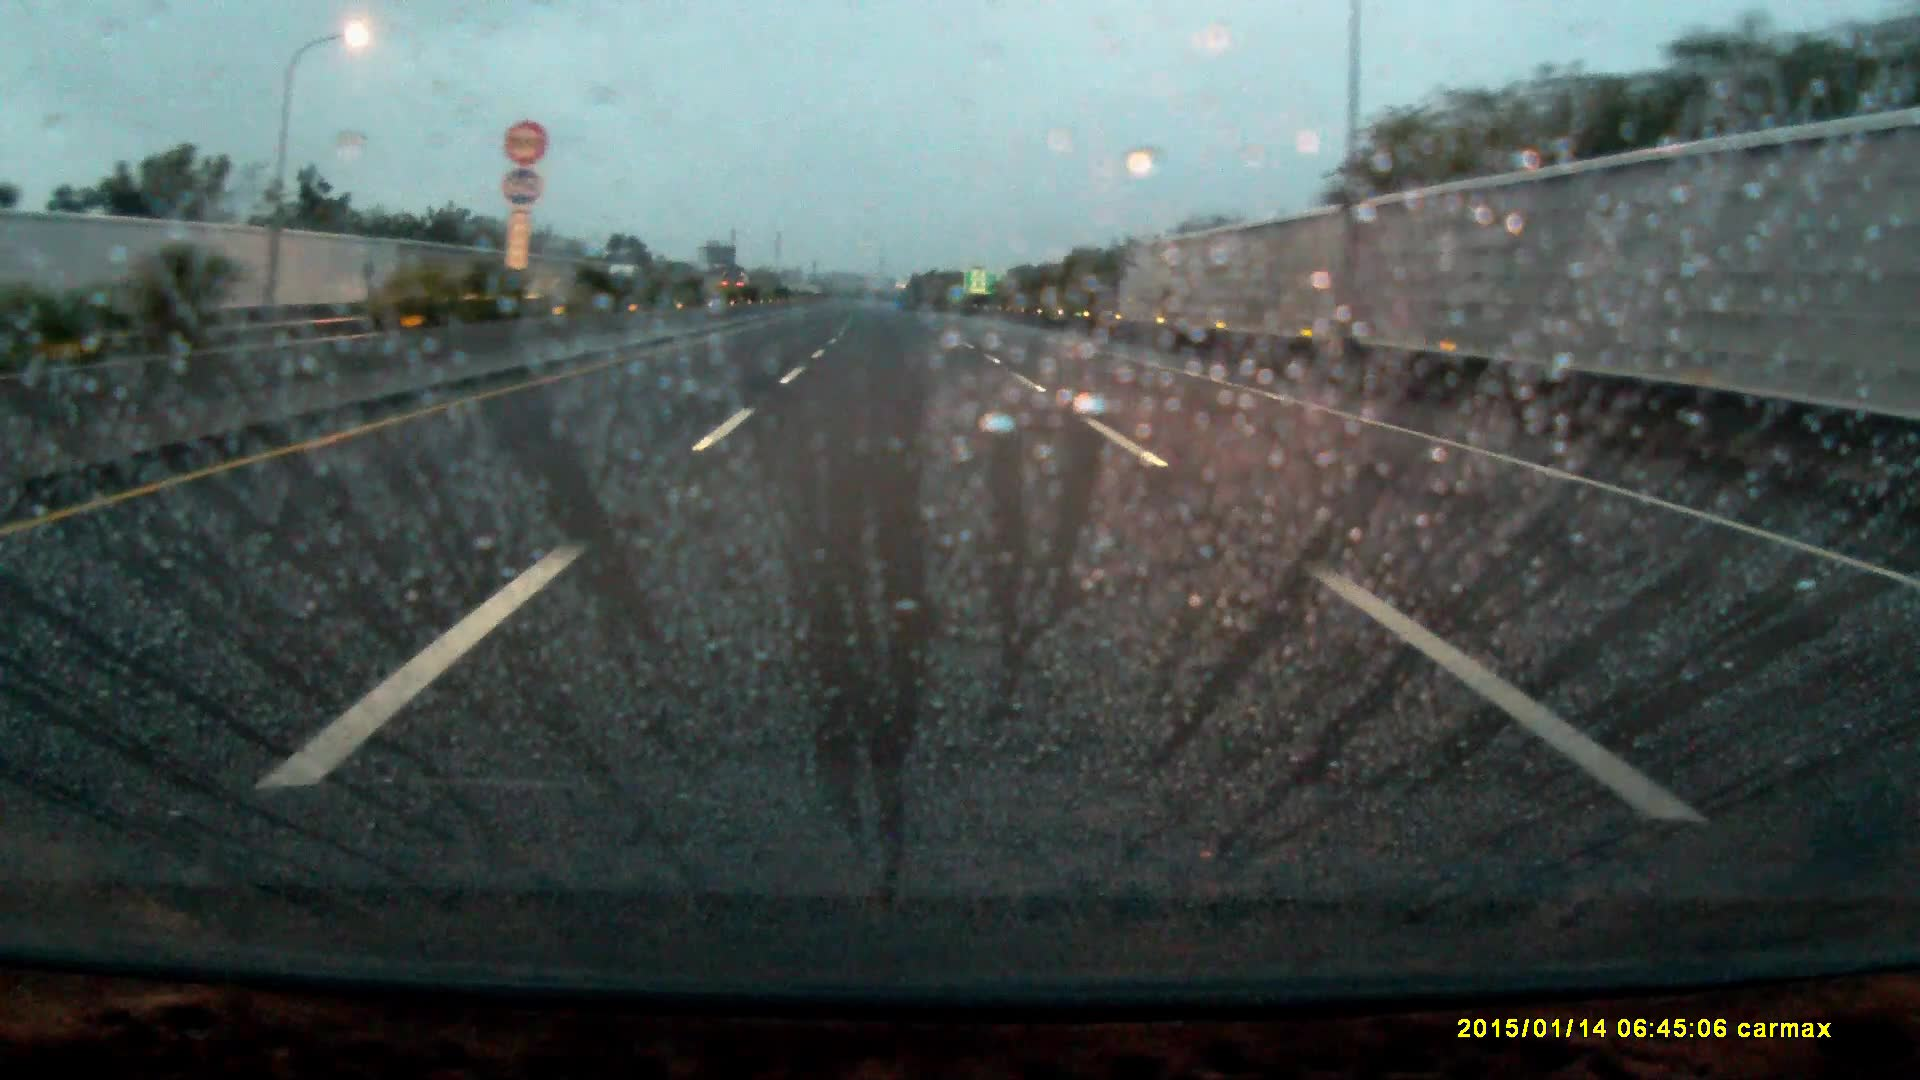vehicle: (607, 265, 647, 301), (723, 280, 756, 307)
